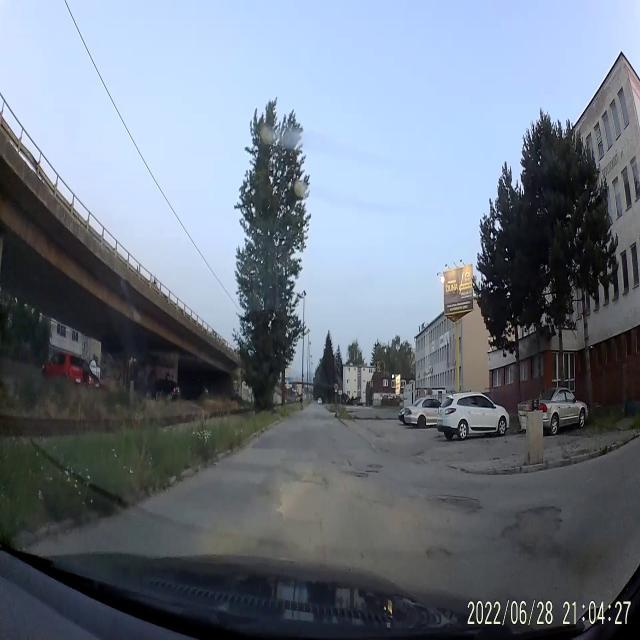Pothole: (504, 502, 562, 566), (437, 486, 483, 516), (342, 471, 367, 477)
